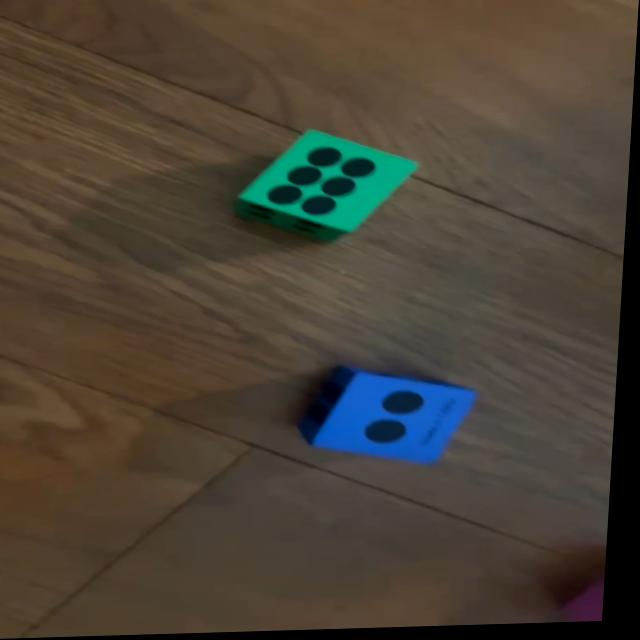cube: (238, 128, 420, 242), (299, 363, 483, 470)
